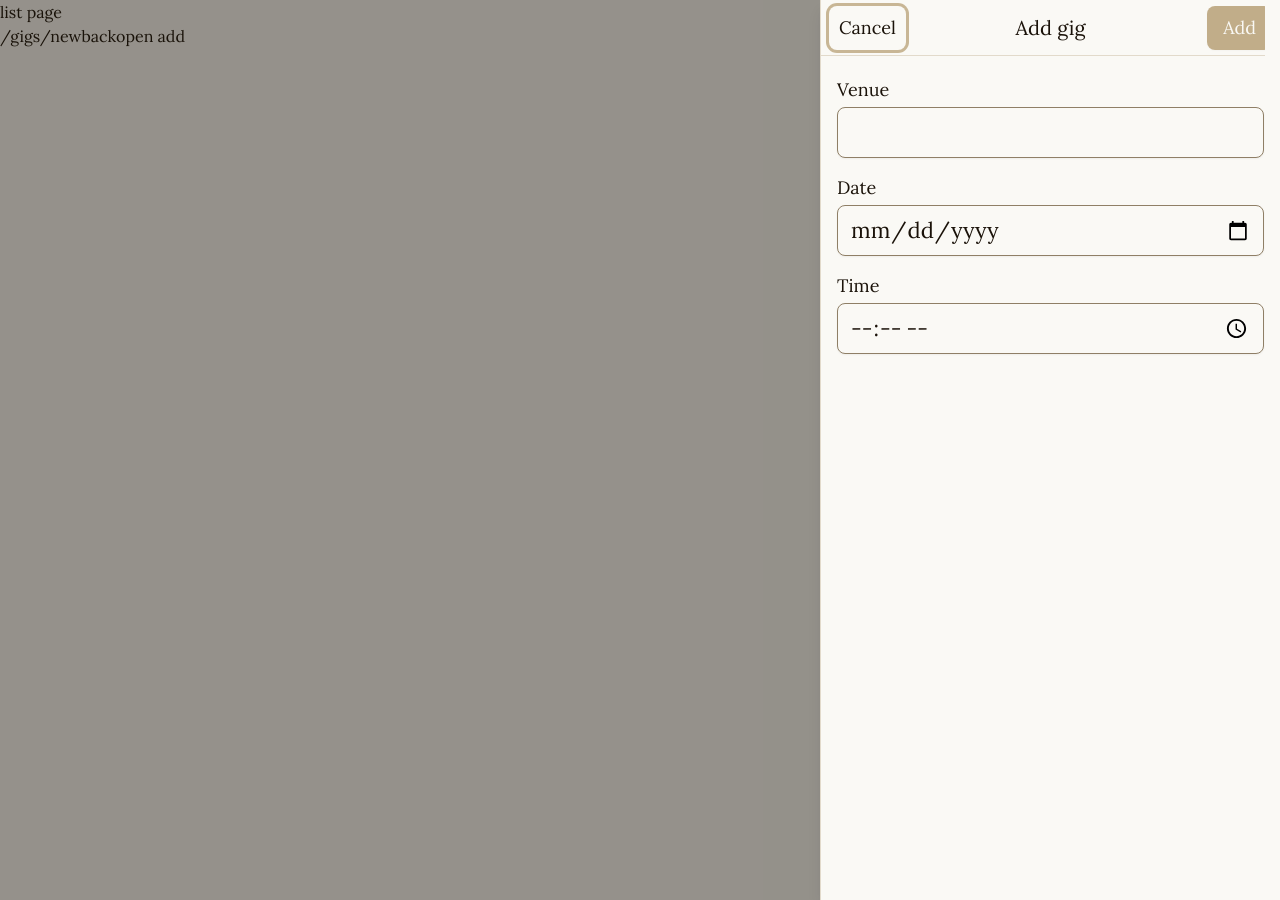
it: GigEdit › adds a gig with no sections
Type "Test Venue" into the field labelled "Venue" at (1050, 132), box [837,107,1264,158]
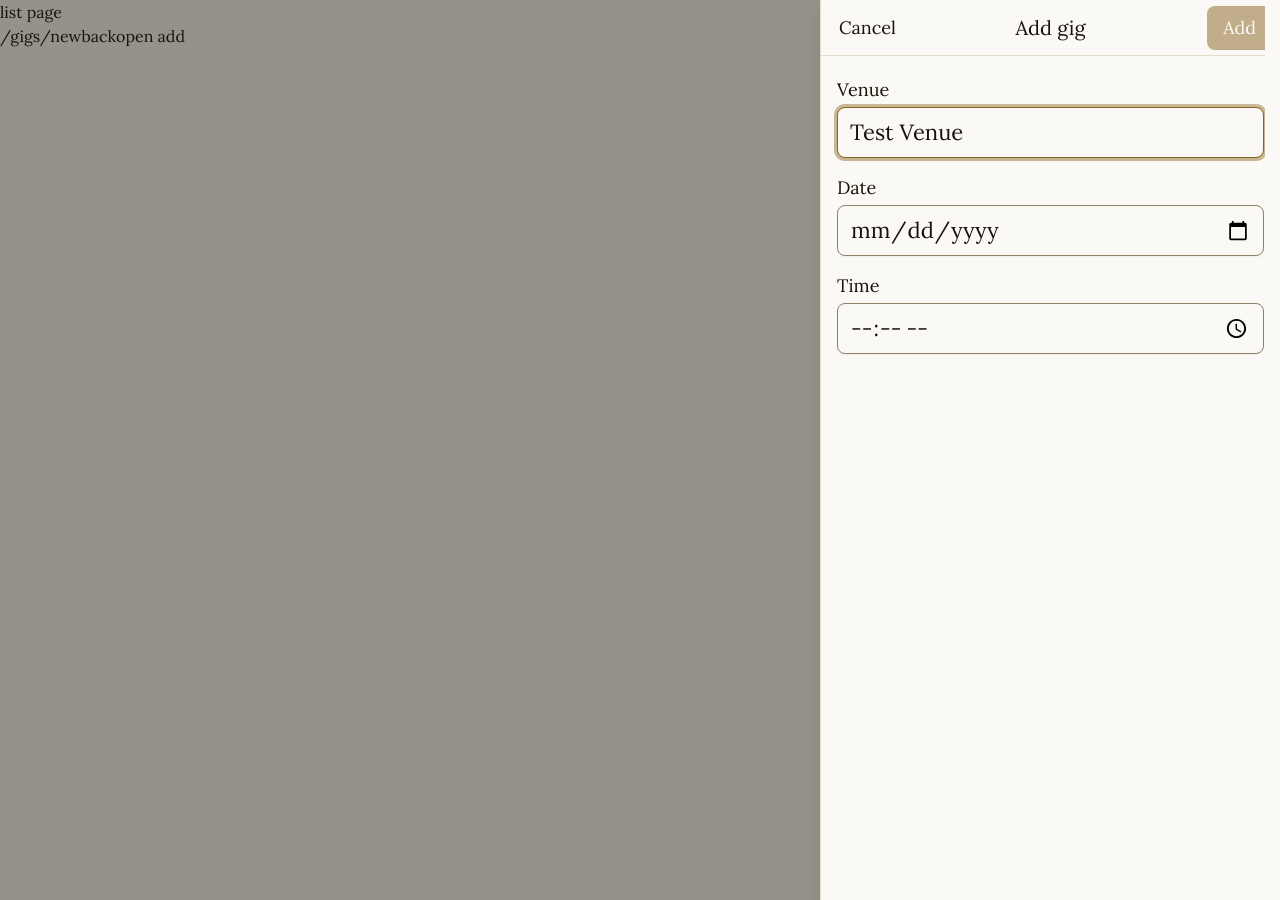
Type "2026-11-07" into the date field labelled "Date" at (1050, 230), box [837,205,1264,256]
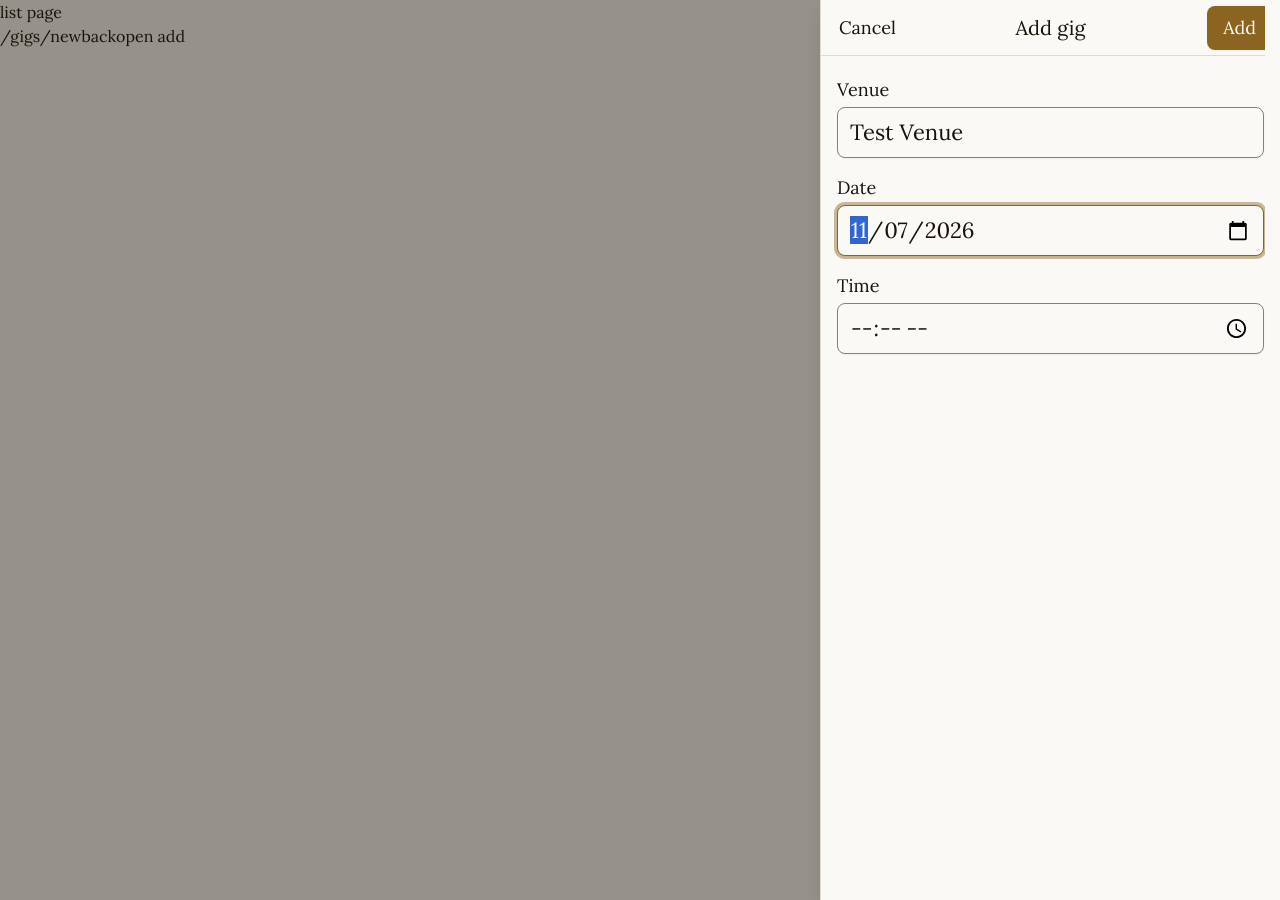
Type "20:00" into the time field labelled "Time" at (1050, 328), box [837,303,1264,354]
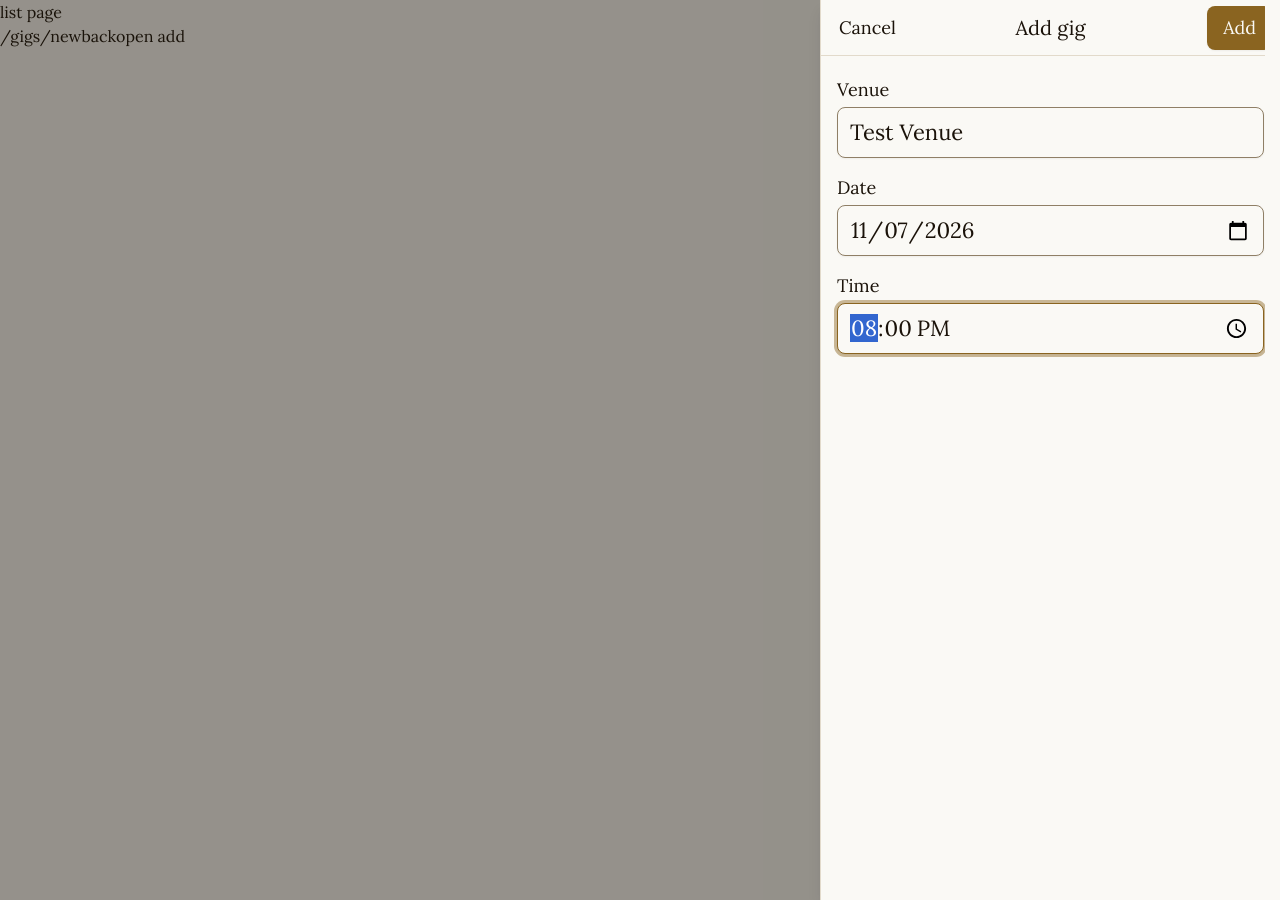
Click the button "Add" at (1240, 28), box [1207,6,1272,50]
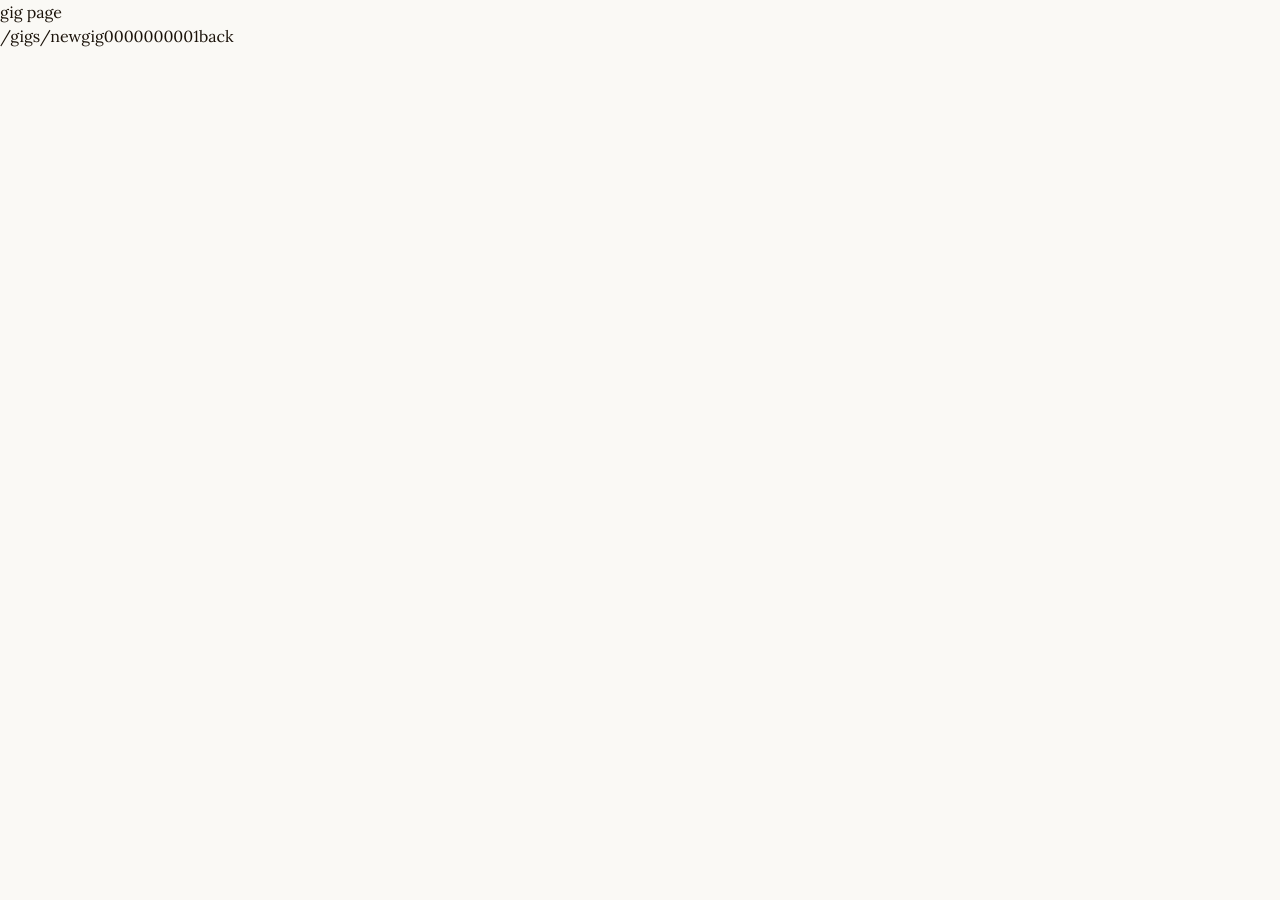
Result: the text "gig page" is shown at [0,2,62,22]
